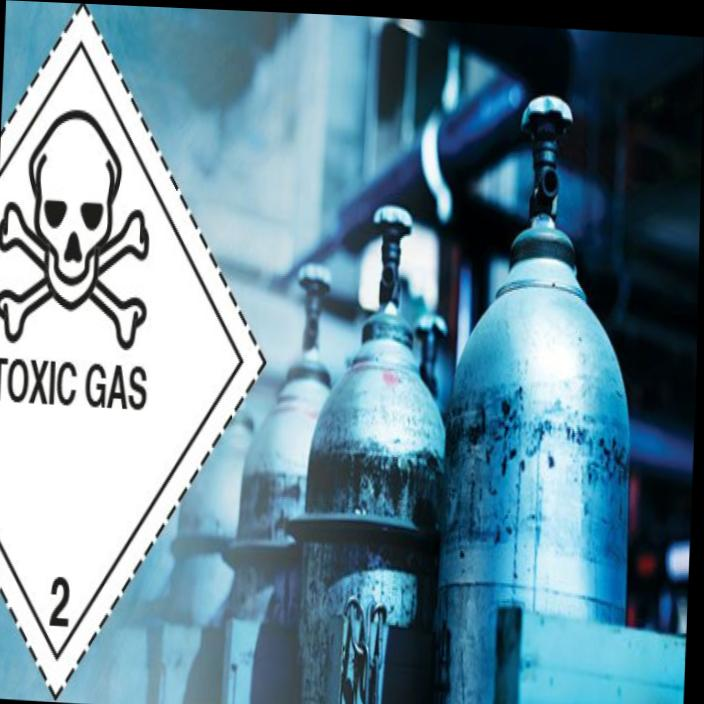camera: (0, 5, 263, 695)
